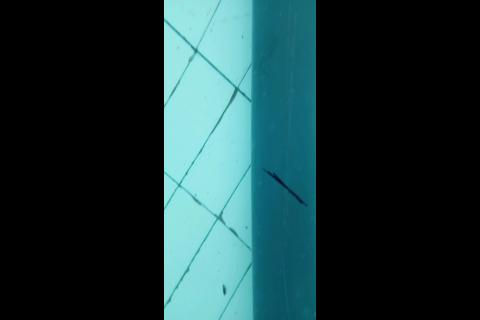keretakan: (261, 166, 307, 207)
